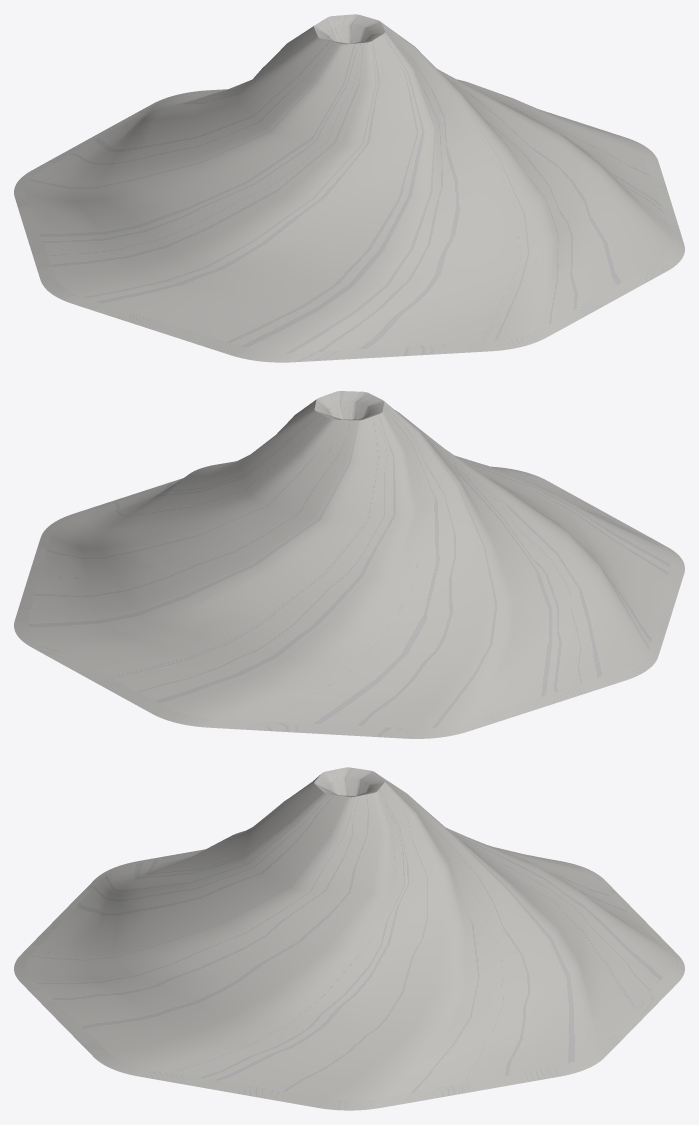
The model's file is Muntanta_central.fbx.
3 views of the same model, one above another, from view 1: azimuth 30°, elevation 25°; view 2: azimuth 150°, elevation 25°; view 3: azimuth 270°, elevation 25° (orthographic). The views are drawn at different scales.
Parts seen in each view (by area): view 1: Extrude_3; view 2: Extrude_3; view 3: Extrude_3.
Part boxes in pixels (x1=…): Extrude_3: x1=14, y1=14, x2=684, y2=362; Extrude_3: x1=14, y1=391, x2=684, y2=738; Extrude_3: x1=14, y1=767, x2=684, y2=1110.
Bounding box in the file's own units: 6745 × 2093 × 6745.
1 material, 1 textured.
